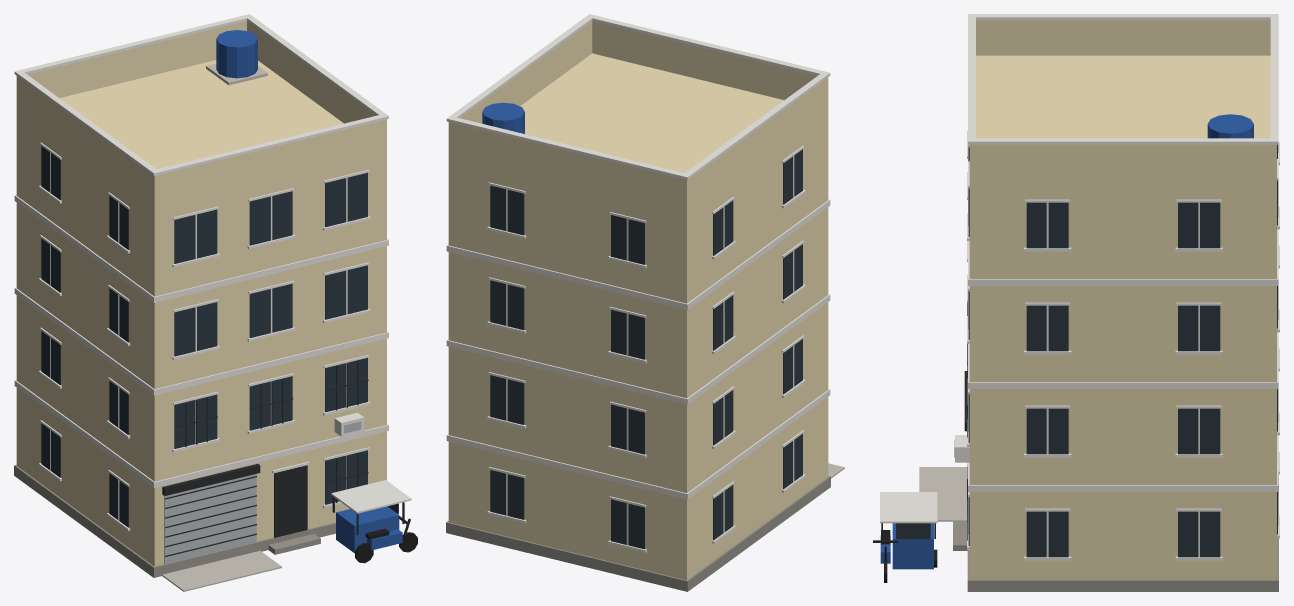
File: BAY_F_Tower_B.glb
3 views of the same model, side by side, from view 1: azimuth 30°, elevation 25°; view 2: azimuth 150°, elevation 25°; view 3: azimuth 270°, elevation 25° (orthographic). The views are drawn at different scales.
Visible parts, largest first — view 1: BAY_F_Tower_B; view 2: BAY_F_Tower_B; view 3: BAY_F_Tower_B.
Boxes of the visible parts, bbox=[...] form: BAY_F_Tower_B: bbox=[14, 14, 417, 591]; BAY_F_Tower_B: bbox=[446, 14, 844, 591]; BAY_F_Tower_B: bbox=[873, 14, 1279, 591].
Bounding box in the file's own units: 7.24 × 11.8 × 9.67.
1 material, 1 textured.
